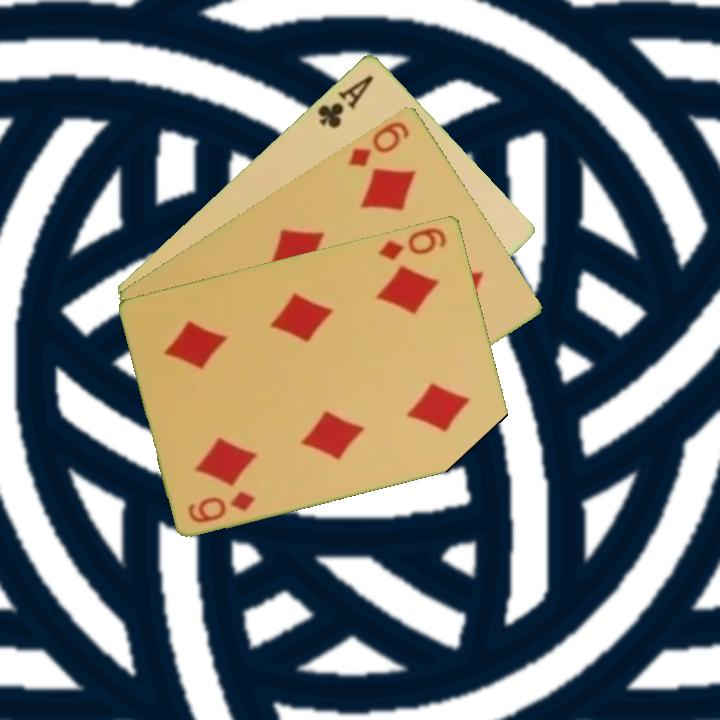6d: (345, 117, 413, 170), (375, 223, 450, 263), (184, 487, 259, 526)
Ac: (314, 71, 377, 131)
